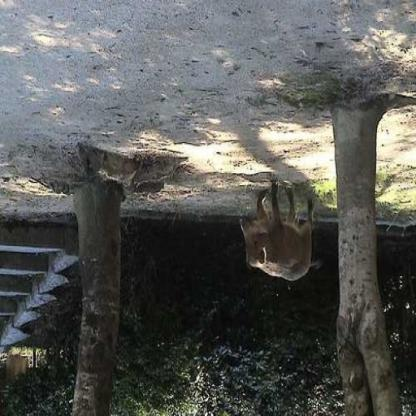boar: (233, 152, 326, 287)
